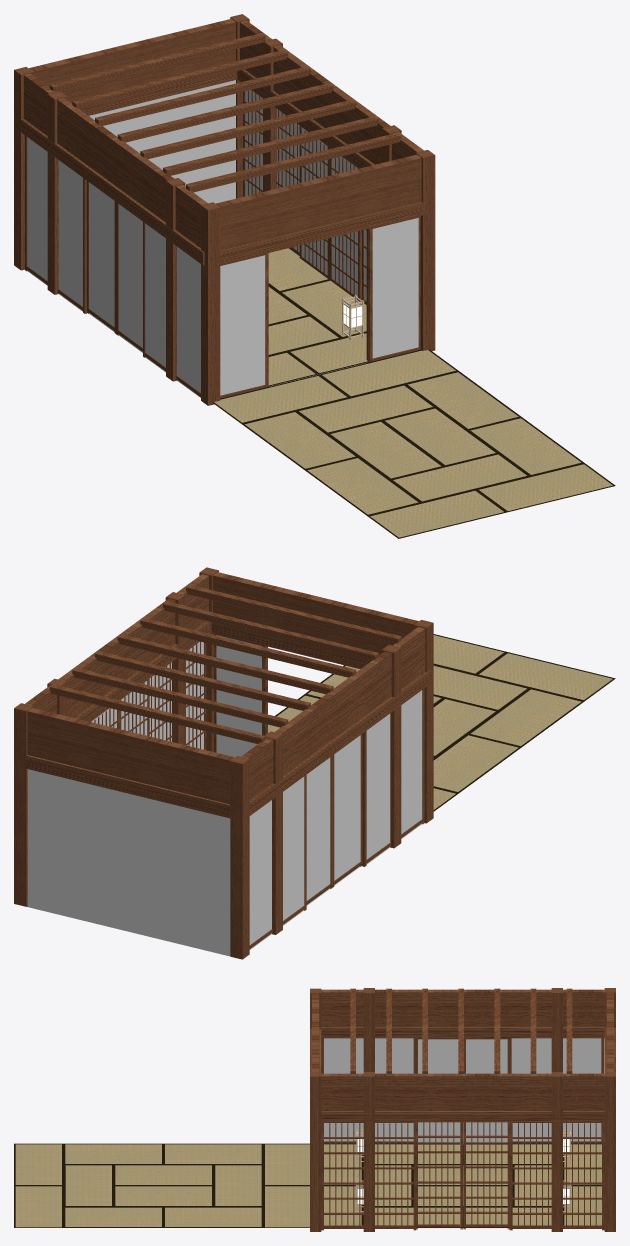
The model's file is washitsu.gltf.
The picture shows the model from 3 angles, top to bottom: view 1: azimuth 30°, elevation 25°; view 2: azimuth 150°, elevation 25°; view 3: azimuth 270°, elevation 25°; orthographic projection. The views are drawn at different scales.
Visible parts, largest first — view 1: Door.Left.002, Beam, Cube.013, Cube.011, Cube.009, Cube.010, Cube.012, Cube.008, Cube.003, Tatami.014, Tatami.015, Tatami.016 (+29 smaller); view 2: Cube.012, Door.Left.002, Beam, Cube.010, Cube.009, Cube.011, Cube.008, Cube.002, Tatami.017, Tatami.023, Cube.007, Door.Left (+16 smaller); view 3: Door.Left.002, Cube.008, Cube.009, Beam, Cube.004, Cube.005, Tatami.012, Tatami.013, Tatami.020, Tatami.022, Tatami.021, Tatami.023 (+40 smaller).
Boxes of the visible parts, bbox=[...] form: Door.Left.002: bbox=[27, 137, 200, 397]; Beam: bbox=[49, 33, 401, 192]; Cube.013: bbox=[220, 218, 418, 395]; Cube.011: bbox=[216, 154, 421, 250]; Cube.009: bbox=[24, 73, 207, 247]; Cube.010: bbox=[29, 18, 235, 103]; Cube.012: bbox=[89, 80, 235, 203]; Cube.008: bbox=[240, 21, 423, 164]; Cube.003: bbox=[201, 202, 220, 405]; Tatami.014: bbox=[390, 453, 529, 502]; Tatami.015: bbox=[296, 384, 435, 433]; Tatami.016: bbox=[476, 463, 615, 512]; Cube.012: bbox=[26, 769, 230, 956]; Door.Left.002: bbox=[249, 690, 422, 949]; Beam: bbox=[49, 584, 401, 743]; Cube.010: bbox=[27, 708, 234, 804]; Cube.009: bbox=[241, 627, 425, 800]; Cube.011: bbox=[213, 572, 418, 655]; Cube.008: bbox=[25, 574, 208, 717]; Cube.002: bbox=[230, 756, 249, 959]; Tatami.017: bbox=[476, 652, 615, 701]; Tatami.023: bbox=[468, 688, 584, 747]; Cube.007: bbox=[20, 754, 236, 818]; Door.Left: bbox=[216, 635, 261, 757]; Door.Left.002: bbox=[324, 1038, 604, 1143]; Cube.008: bbox=[321, 1073, 604, 1110]; Cube.009: bbox=[321, 989, 604, 1026]; Beam: bbox=[350, 988, 572, 1073]; Cube.004: bbox=[316, 1111, 609, 1122]; Cube.005: bbox=[321, 1027, 604, 1038]; Tatami.012: bbox=[113, 1185, 213, 1206]; Tatami.013: bbox=[113, 1164, 213, 1185]; Tatami.020: bbox=[163, 1206, 263, 1227]; Tatami.022: bbox=[163, 1143, 263, 1164]; Tatami.021: bbox=[64, 1206, 163, 1227]; Tatami.023: bbox=[64, 1143, 163, 1164].
Size of the model in its own units: 3.7 by 3.09 by 10.63.
9 materials, 5 textured.
